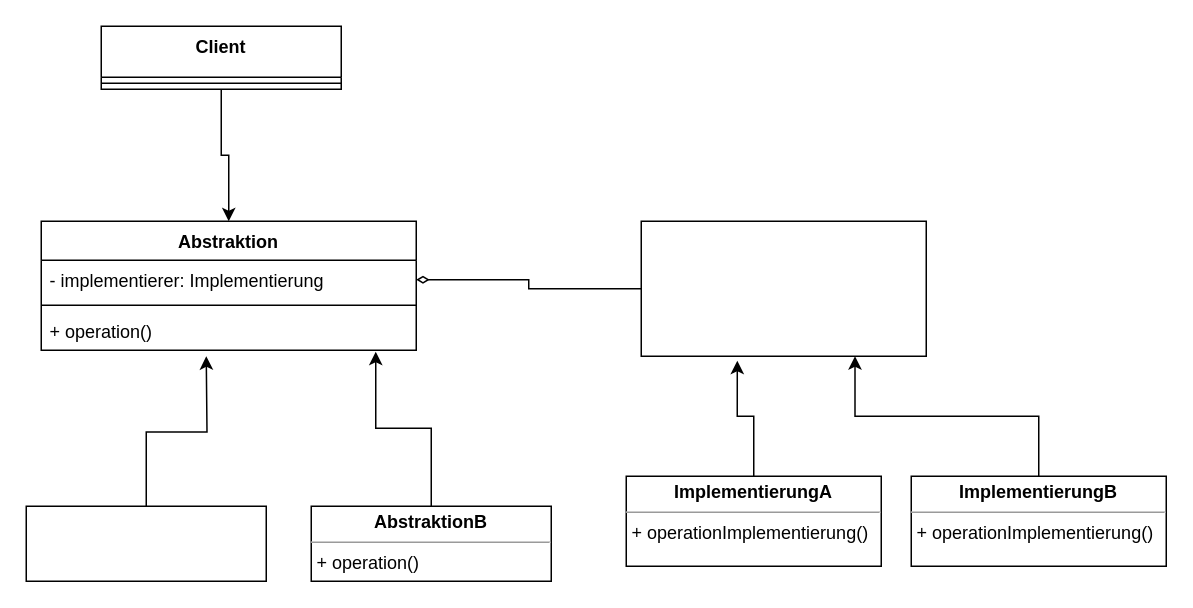
Image size: 1193x608. Some labels were removed from this diagram. Each missing label, with the centre of its shape:
<<Interface>> Implementierung + operationImplementierung(): the point at 783,288
AbstraktionA + operation(): the point at 145,543
